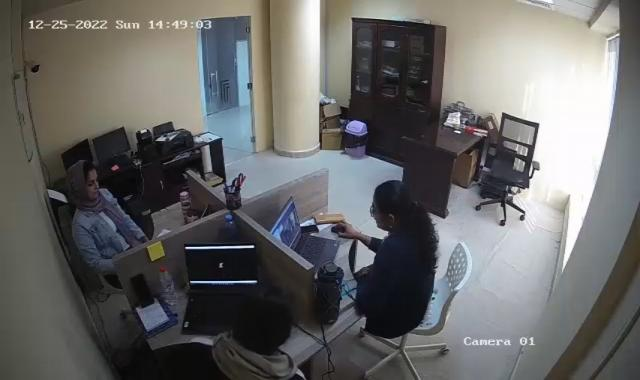no_hairnet: (234, 284, 292, 352), (370, 182, 416, 231), (66, 161, 102, 202)
